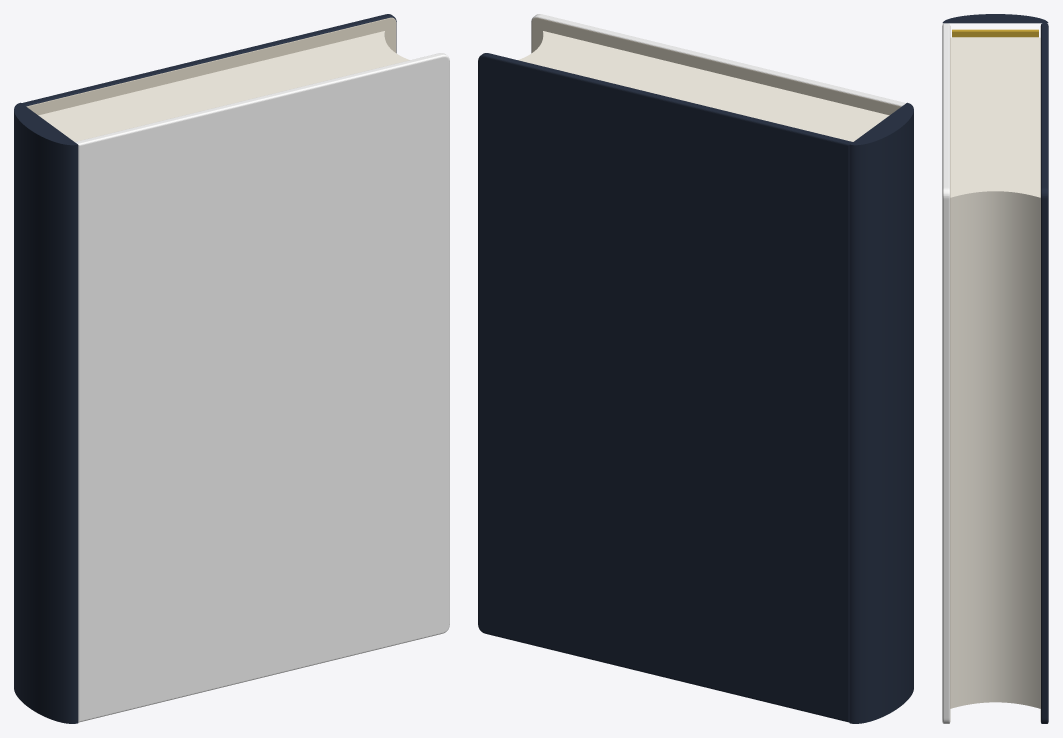
Rendered from advanced_book_realistic.glb.
The picture shows the model from 3 angles, left to right: view 1: azimuth 30°, elevation 25°; view 2: azimuth 150°, elevation 25°; view 3: azimuth 270°, elevation 25°; orthographic projection. The views are drawn at different scales.
Parts seen in each view (by area): view 1: Front_Cover_Board, Convex_Spine, Concave_Paper_Text_Block, Back_Cover_Board; view 2: Back_Cover_Board, Convex_Spine, Concave_Paper_Text_Block, Front_Cover_Board; view 3: Concave_Paper_Text_Block, Front_Cover_Board, Back_Cover_Board, Convex_Spine, Top_Headband.
Boxes of the visible parts, <box> form: Front_Cover_Board: <box>75,53,449,722</box>; Convex_Spine: <box>14,102,78,723</box>; Concave_Paper_Text_Block: <box>38,31,409,141</box>; Back_Cover_Board: <box>22,14,396,115</box>; Back_Cover_Board: <box>478,53,852,722</box>; Convex_Spine: <box>849,102,913,723</box>; Concave_Paper_Text_Block: <box>518,31,889,141</box>; Front_Cover_Board: <box>531,14,905,115</box>; Concave_Paper_Text_Block: <box>950,37,1040,708</box>; Front_Cover_Board: <box>942,23,950,723</box>; Back_Cover_Board: <box>1040,23,1048,723</box>; Convex_Spine: <box>942,14,1048,23</box>; Top_Headband: <box>952,29,1038,37</box>.
Size of the model in its own units: 0.1742 by 0.245 by 0.044.
